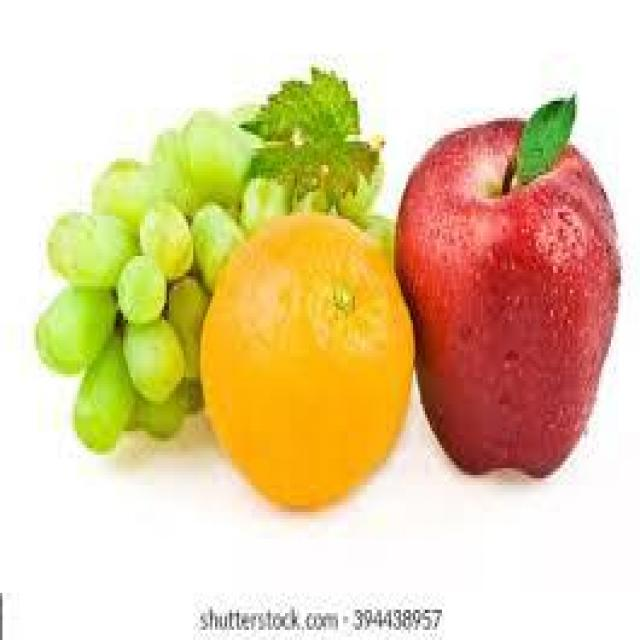Apple: (386, 101, 626, 478)
Orange: (190, 205, 424, 517)
